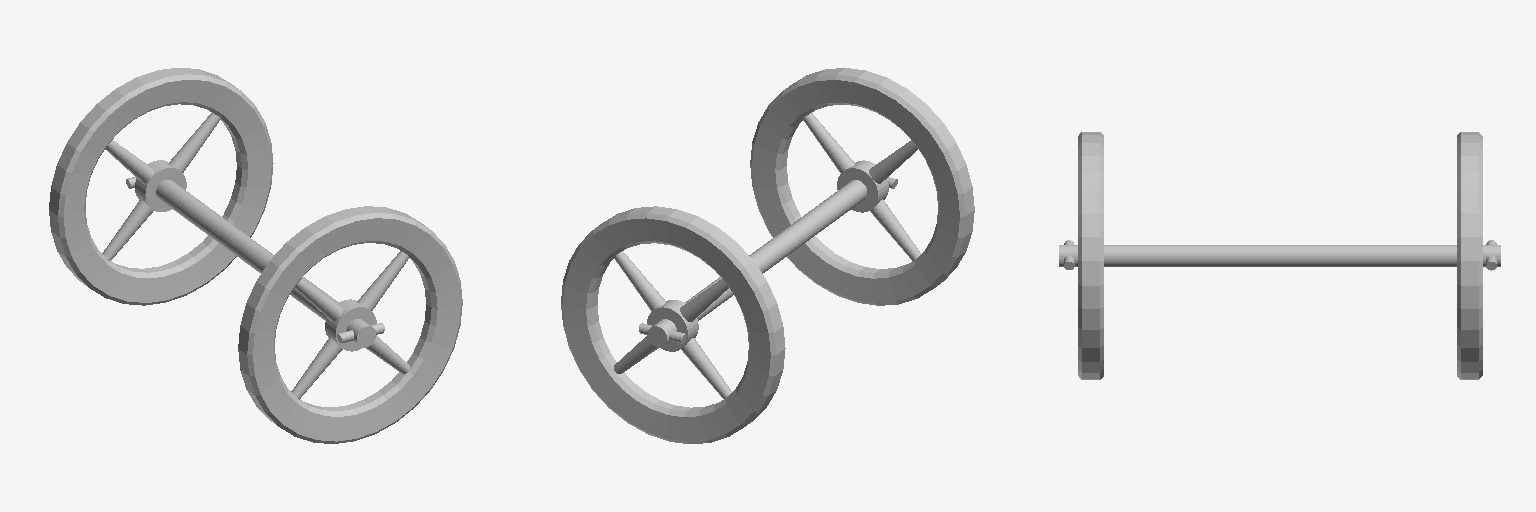
File: cart_wheel.obj
The picture shows the model from 3 angles: view 1: azimuth 30°, elevation 25°; view 2: azimuth 150°, elevation 25°; view 3: azimuth 270°, elevation 25°; orthographic projection.
Visible parts, largest first — view 1: cart_wheel; view 2: cart_wheel; view 3: cart_wheel.
Boxes of the visible parts, x1=… form: cart_wheel: x1=49, y1=68, x2=462, y2=443; cart_wheel: x1=561, y1=68, x2=974, y2=443; cart_wheel: x1=1059, y1=132, x2=1500, y2=379.
Size of the model in its own units: 2.46 by 2.46 by 4.37.